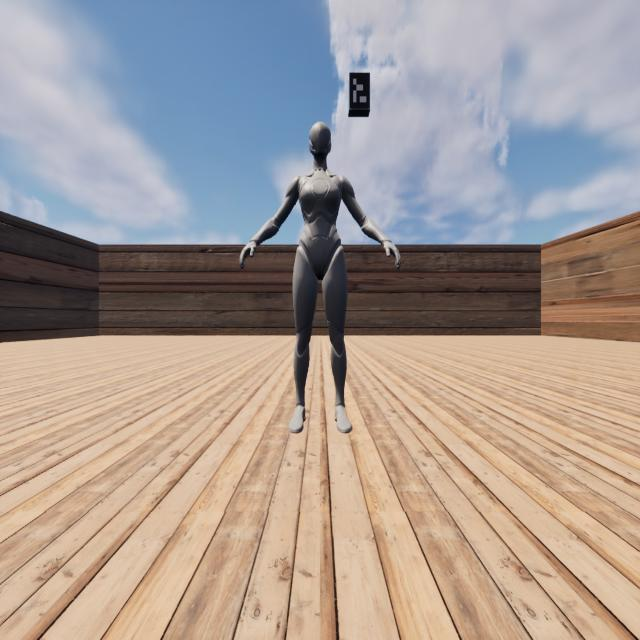aruco: (350, 72, 370, 109)
hip: (296, 245, 344, 257)
